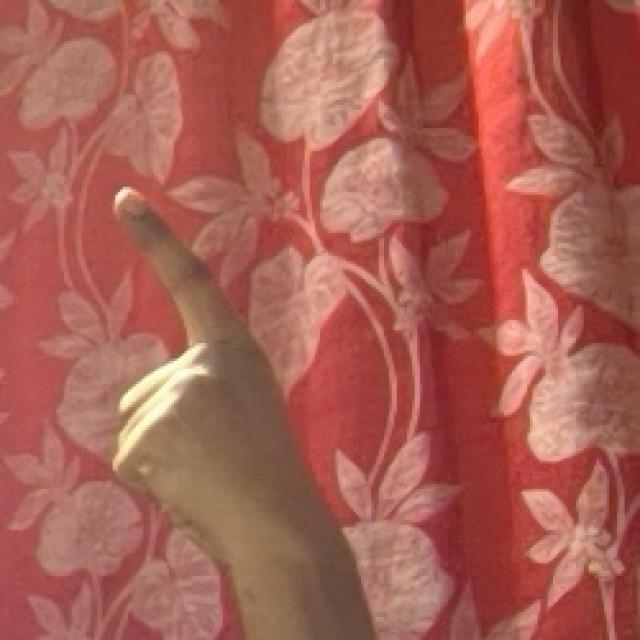Alphabet-I: (67, 128, 379, 632)
